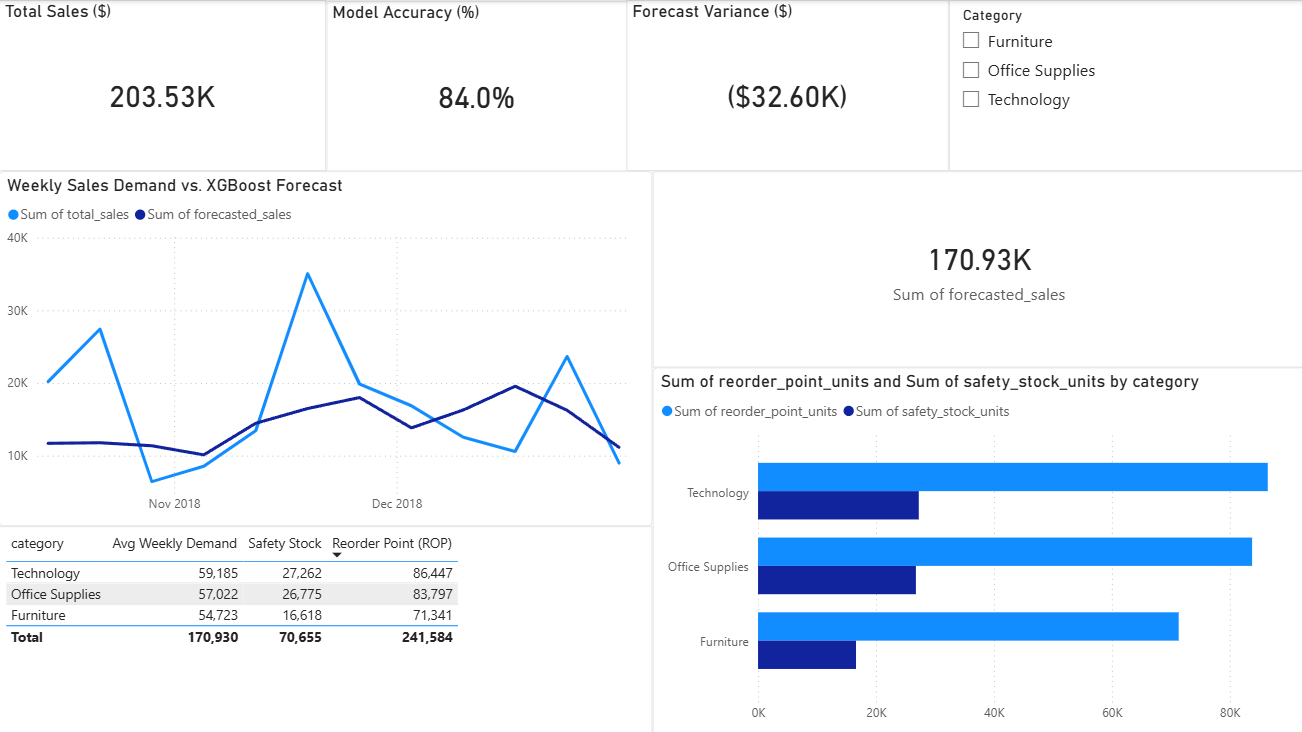

What the dashboard file says about the page in this screenshot:
{"tool":"powerbi","page":{"name":"Demand & Sales Forecast","canvas":[1280,720],"ordinal":0},"visuals":[{"type":"lineChart","title":"Weekly Sales Demand vs. XGBoost Forecast","fields":{"Y":["Sum(forecasted_inventory_data.total_sales)","Sum(forecasted_inventory_data.forecasted_sales)"],"Category":["forecasted_inventory_data.sales_date.Variation.Date Hierarchy.Year","forecasted_inventory_data.sales_date.Variation.Date Hierarchy.Quarter","forecasted_inventory_data.sales_date.Variation.Date Hierarchy.Month","forecasted_inventory_data.sales_date.Variation.Date Hierarchy.Day"]},"box":[0,167.5,639.5,347.3],"z":0},{"type":"card","fields":{"Values":["Sum(forecasted_inventory_data.forecasted_sales)"]},"box":[639.5,167.5,639.5,192],"z":1000},{"type":"slicer","fields":{"Values":["forecasted_inventory_data.category"]},"box":[929.2,0,351.1,167.5],"z":2000},{"type":"card","title":"Total Sales ($)","fields":{"Values":["Sum(forecasted_inventory_data.total_sales)"]},"box":[0,0,320.1,167.5],"z":3000},{"type":"tableEx","fields":{"Values":["forecasted_inventory_data.category","Sum(forecasted_inventory_data.avg_weekly_demand)","Sum(forecasted_inventory_data.safety_stock_units)","Sum(forecasted_inventory_data.reorder_point_units)"]},"box":[0,514.8,639.5,204.2],"z":4000},{"type":"clusteredBarChart","fields":{"Category":["forecasted_inventory_data.category"],"Y":["Sum(forecasted_inventory_data.reorder_point_units)","Sum(forecasted_inventory_data.safety_stock_units)"]},"box":[640.1,359.8,640.1,359.8],"z":5000},{"type":"card","title":"Model Accuracy (%)","fields":{"Values":["_Measures.Forecast Accuracy %"]},"box":[320.1,1.2,294,166.2],"z":6000},{"type":"card","title":"Forecast Variance ($)","fields":{"Values":["_Measures.Forecast Variance"]},"box":[614.1,0,315.1,167.5],"z":7000}]}

Visuals, with their boxes in screenshot pixels (x1, y1, x2, y2), scaled from the page's 1280x720 canvas onto the 1302x732 screenshot:
"Weekly Sales Demand vs. XGBoost Forecast" lineChart: BBox(0, 170, 650, 523)
card - Sum(forecasted_inventory_data.forecasted_sales): BBox(650, 170, 1301, 365)
slicer - forecasted_inventory_data.category: BBox(945, 0, 1301, 170)
"Total Sales ($)" card: BBox(0, 0, 326, 170)
tableEx - forecasted_inventory_data.category x Sum(forecasted_inventory_data.avg_weekly_demand): BBox(0, 523, 650, 731)
clusteredBarChart - forecasted_inventory_data.category x Sum(forecasted_inventory_data.reorder_point_units): BBox(651, 366, 1301, 731)
"Model Accuracy (%)" card: BBox(326, 1, 625, 170)
"Forecast Variance ($)" card: BBox(625, 0, 945, 170)
